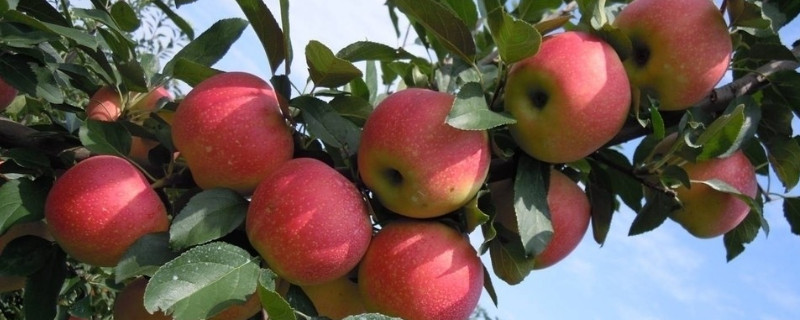Apple: (357, 79, 493, 217), (505, 28, 632, 166), (243, 155, 369, 286), (45, 150, 171, 267), (180, 70, 295, 192), (621, 1, 733, 110), (361, 224, 486, 318), (658, 148, 758, 240), (86, 74, 185, 163), (507, 171, 594, 269), (0, 62, 43, 120)
